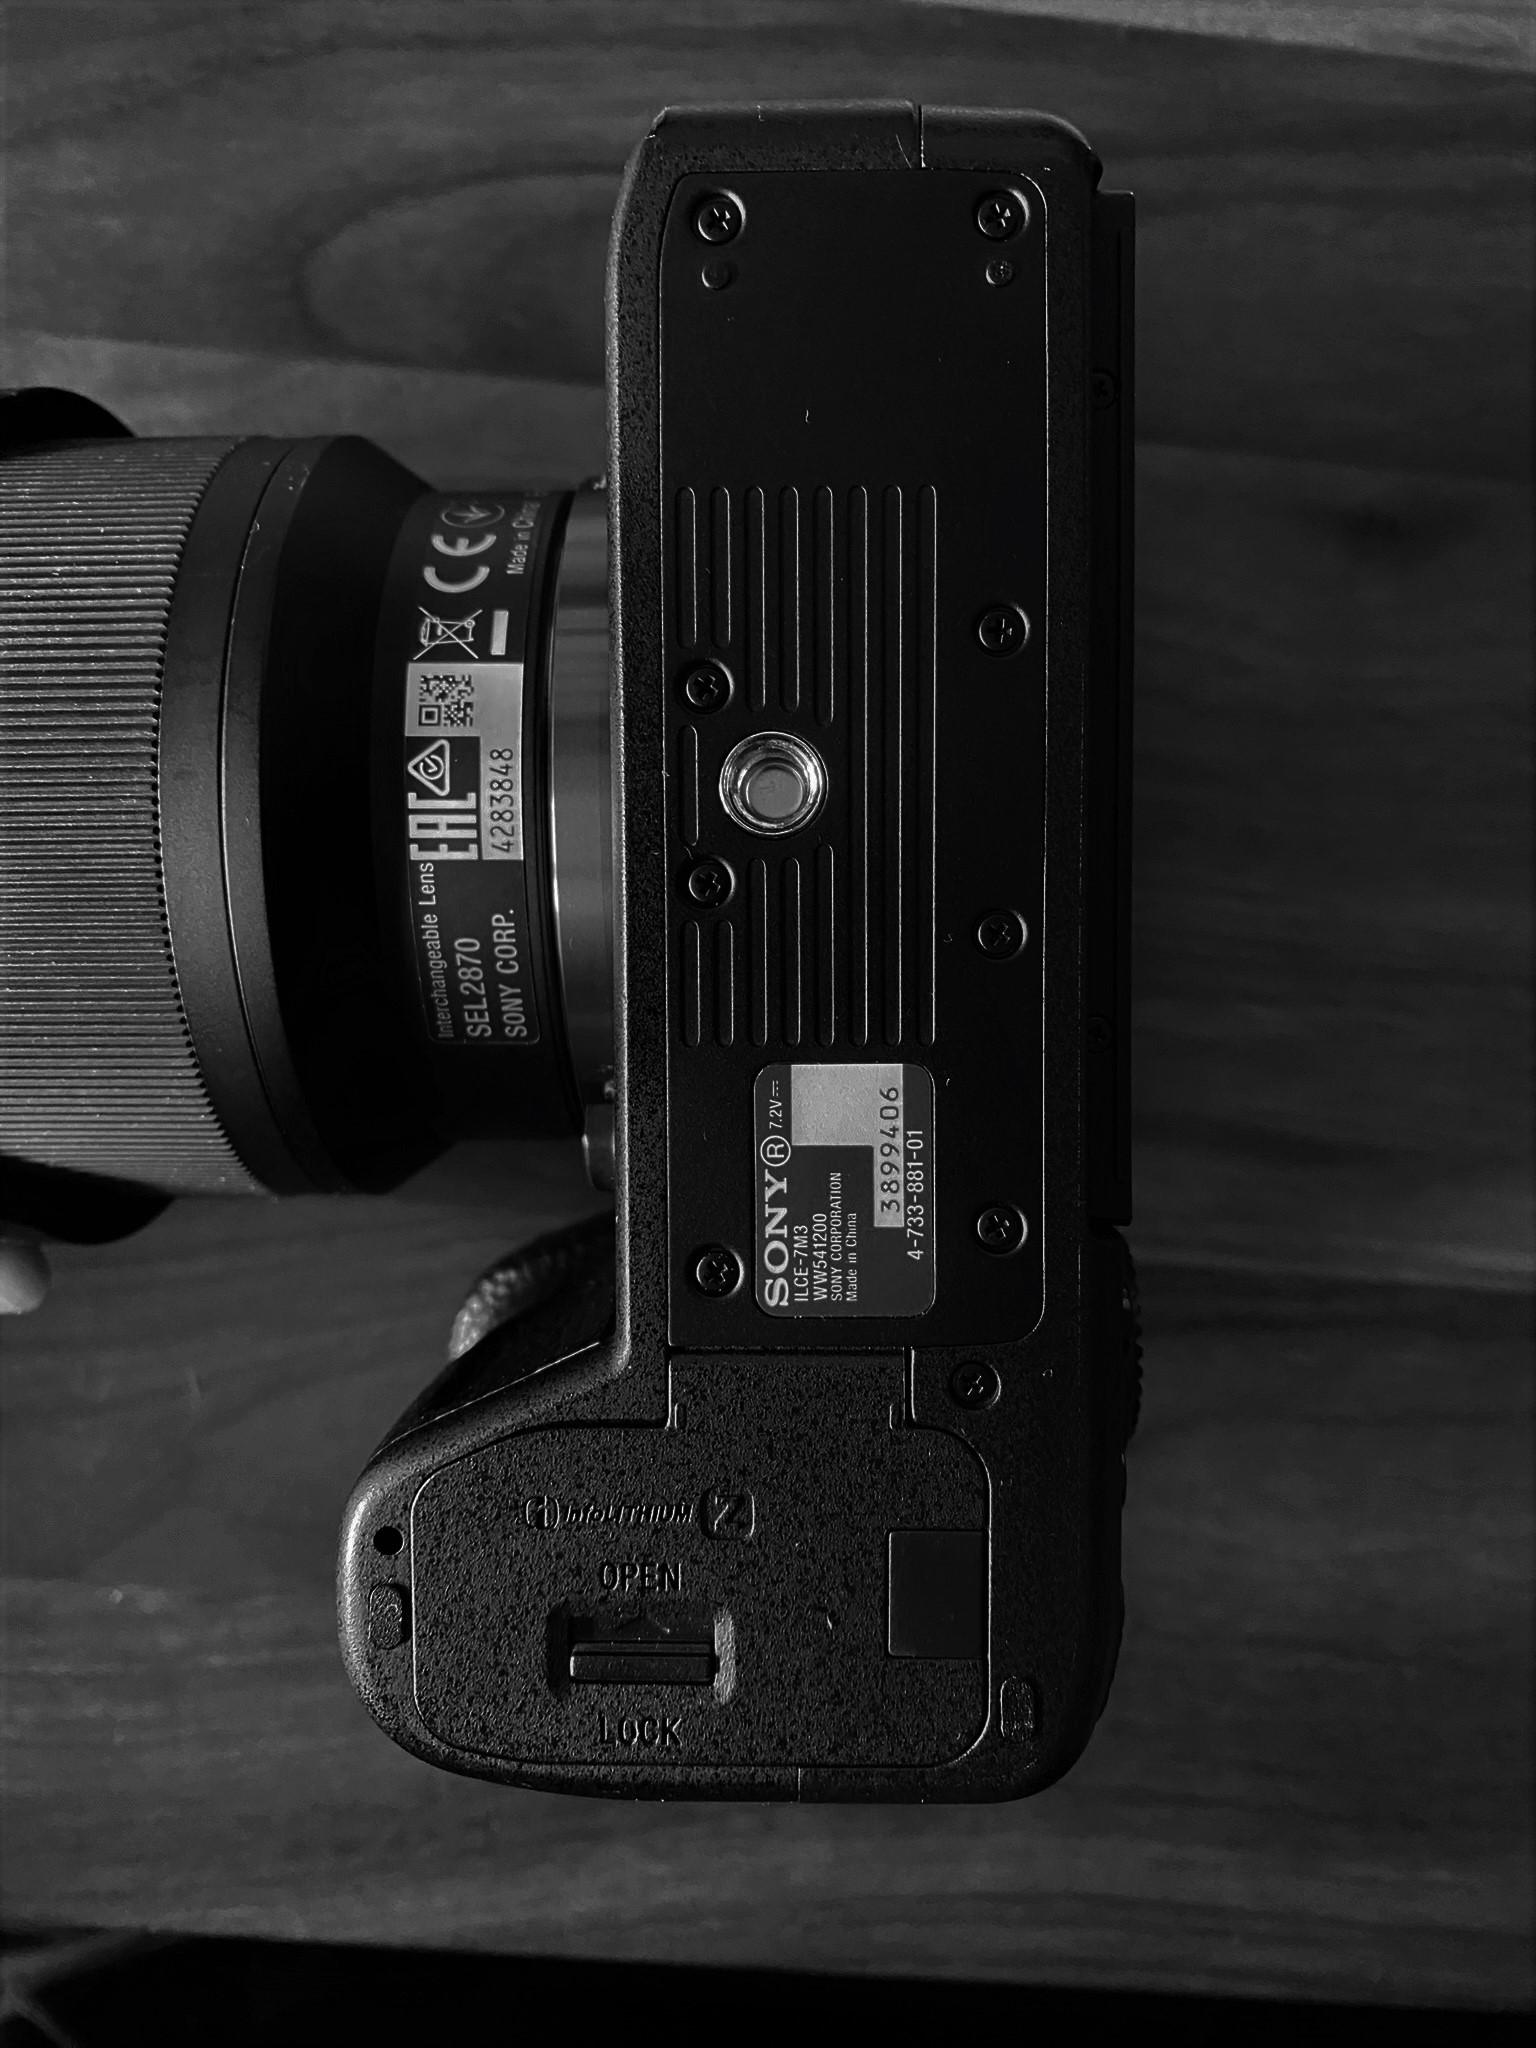PH: (949, 1351, 1004, 1413), (684, 194, 741, 248), (970, 189, 1021, 247), (691, 1243, 742, 1300), (679, 660, 729, 716), (975, 906, 1025, 959), (978, 1200, 1025, 1256), (975, 605, 1025, 656), (684, 858, 734, 908)
